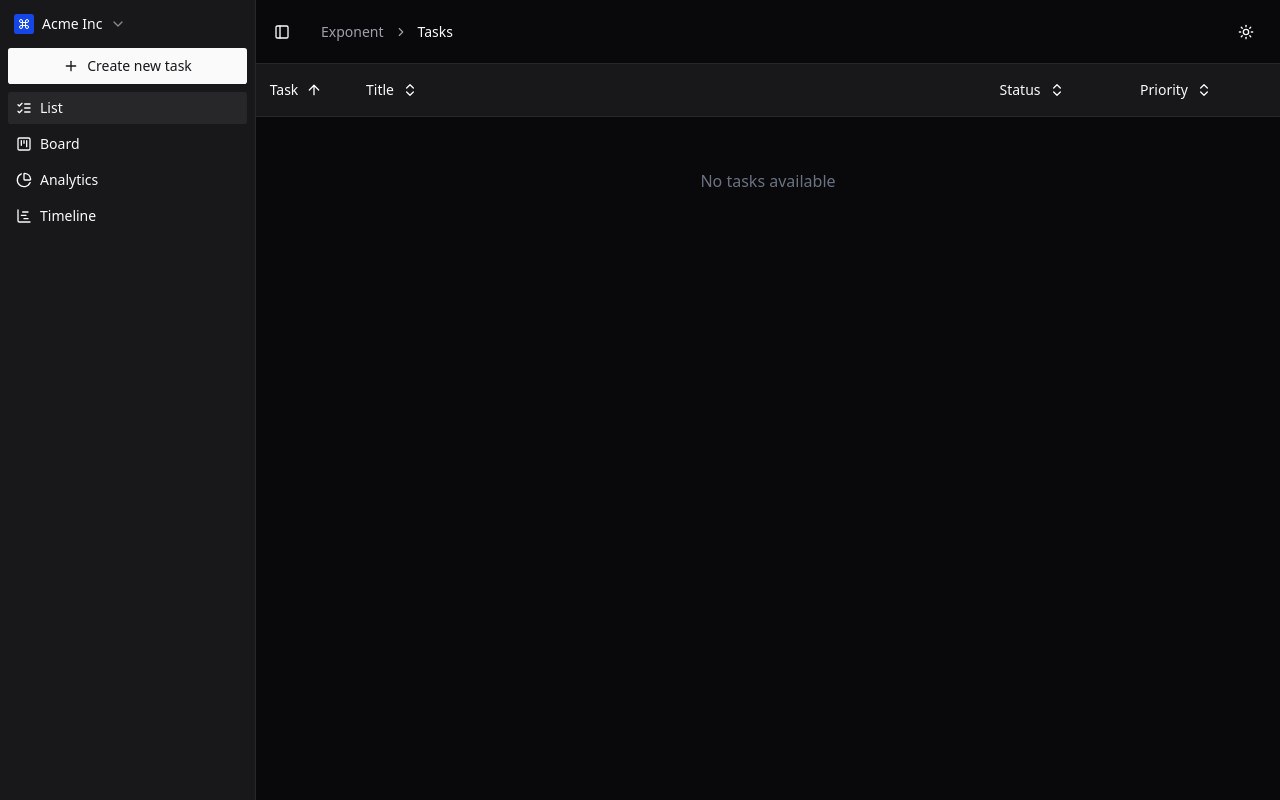
Test case: Form Task Create - Form Validation & Error Message › should display the error message if missing title
Click the button "Create new task": point(128, 66) [8, 48, 247, 84]
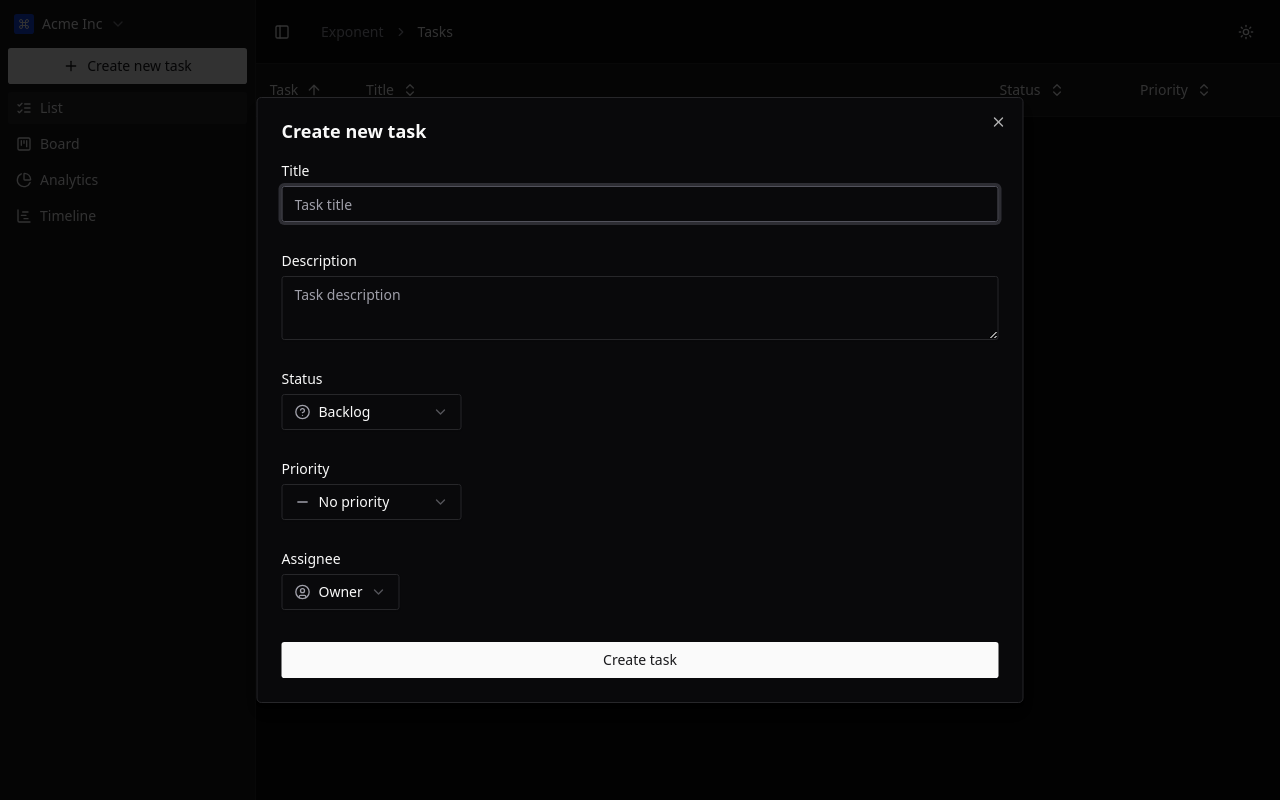
Click the button with test id "form-task-create-submit": point(641, 660) [282, 642, 999, 678]
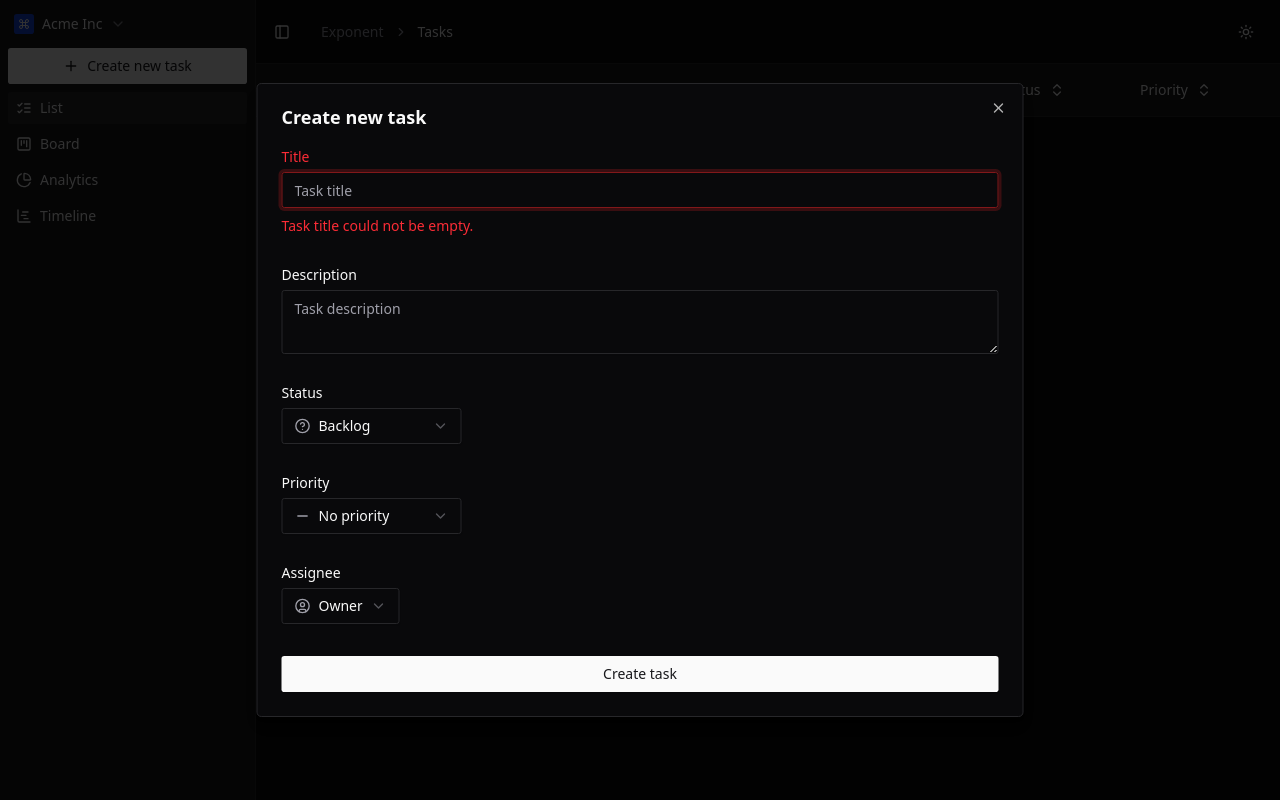
expect the dropdown "Backlog" is shown: met, box [282, 408, 462, 444]
expect the dropdown "No priority" is shown: met, box [282, 498, 462, 534]
expect the text "Task title could not be empty." is shown: met, box [282, 216, 473, 235]
